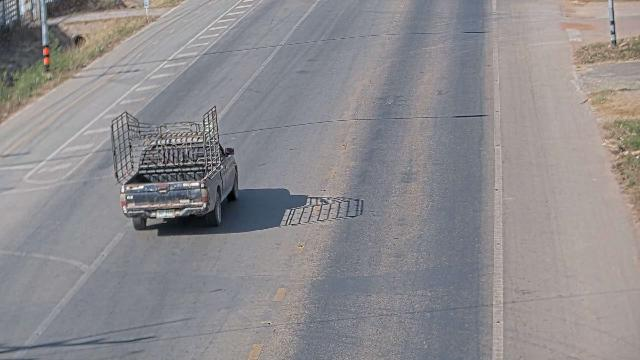pickup-truck: (109, 105, 239, 230)
